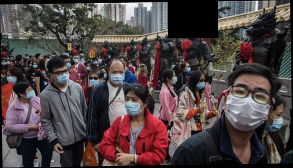mask_weared_incorrect: (128, 63, 133, 67)
with_mask: (224, 81, 272, 132), (124, 94, 143, 117), (266, 111, 284, 133), (109, 68, 126, 85), (54, 68, 70, 84), (89, 74, 100, 87), (196, 77, 207, 90), (6, 73, 18, 84), (25, 87, 34, 99), (170, 73, 179, 85), (64, 59, 72, 69), (101, 70, 107, 79), (73, 56, 80, 63), (185, 64, 191, 72), (85, 64, 91, 71), (32, 63, 38, 69), (1, 60, 7, 65), (93, 59, 98, 64)
